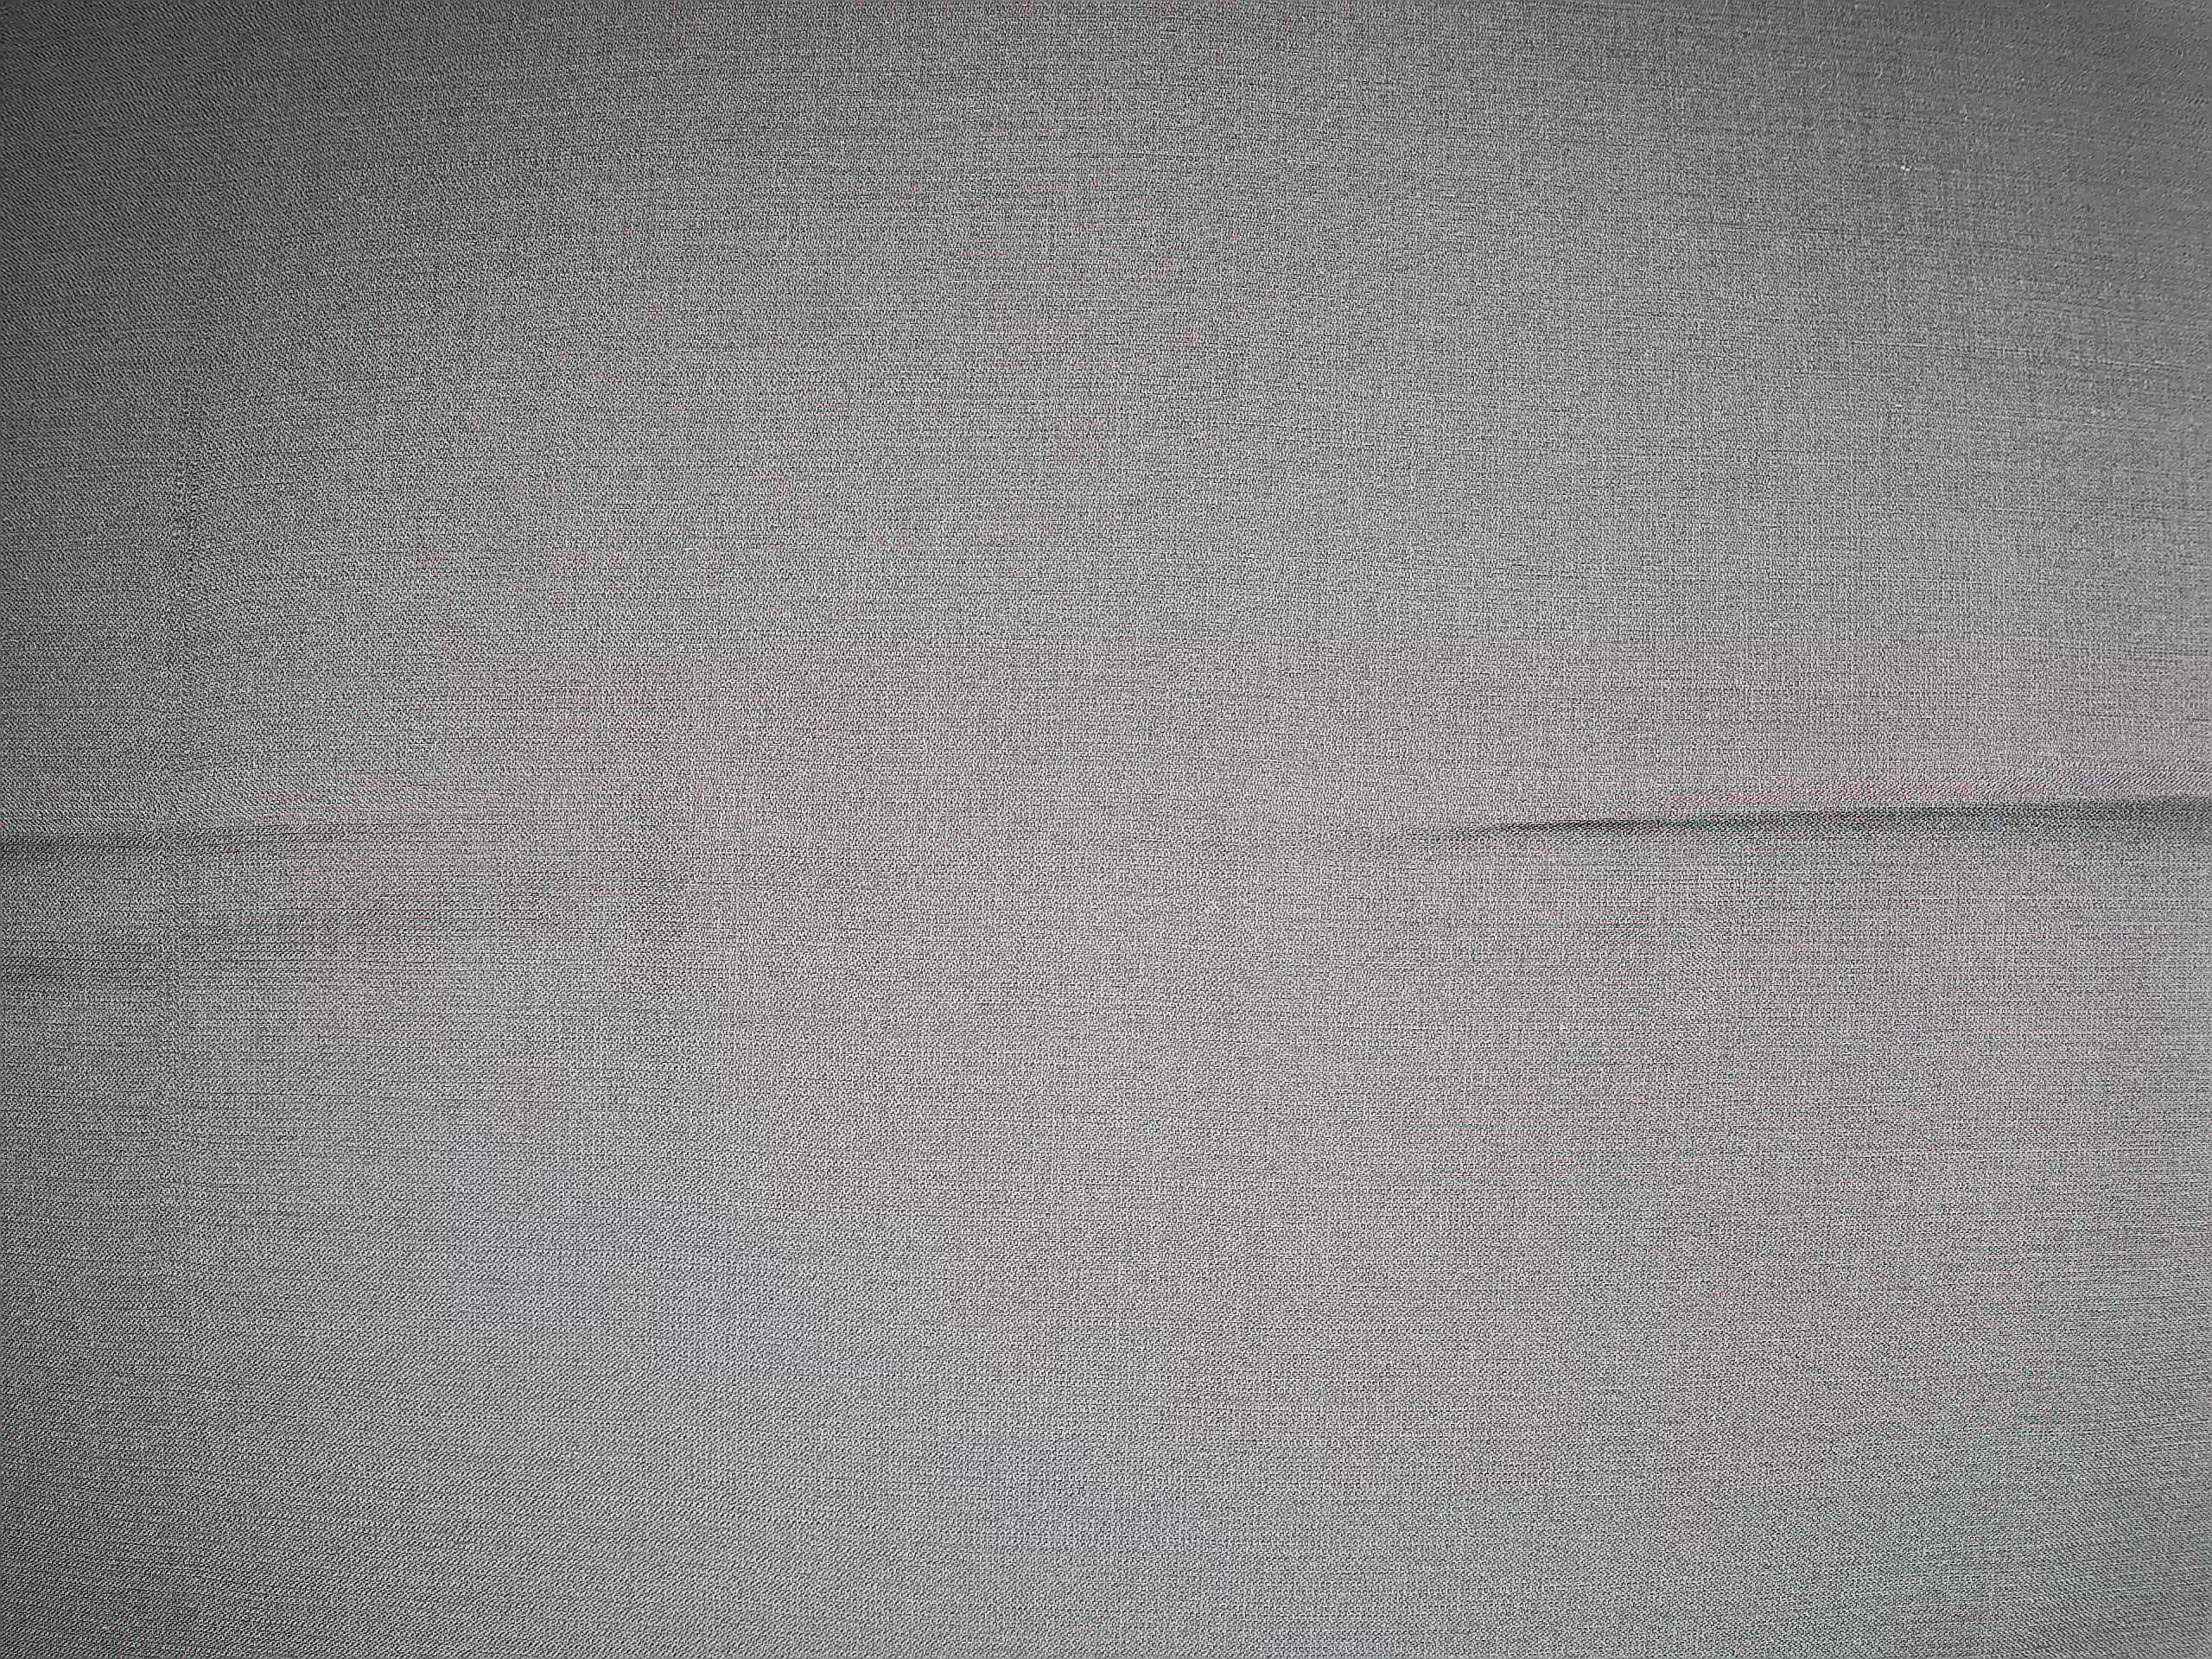hanging-warp: (158, 368, 221, 1072)
